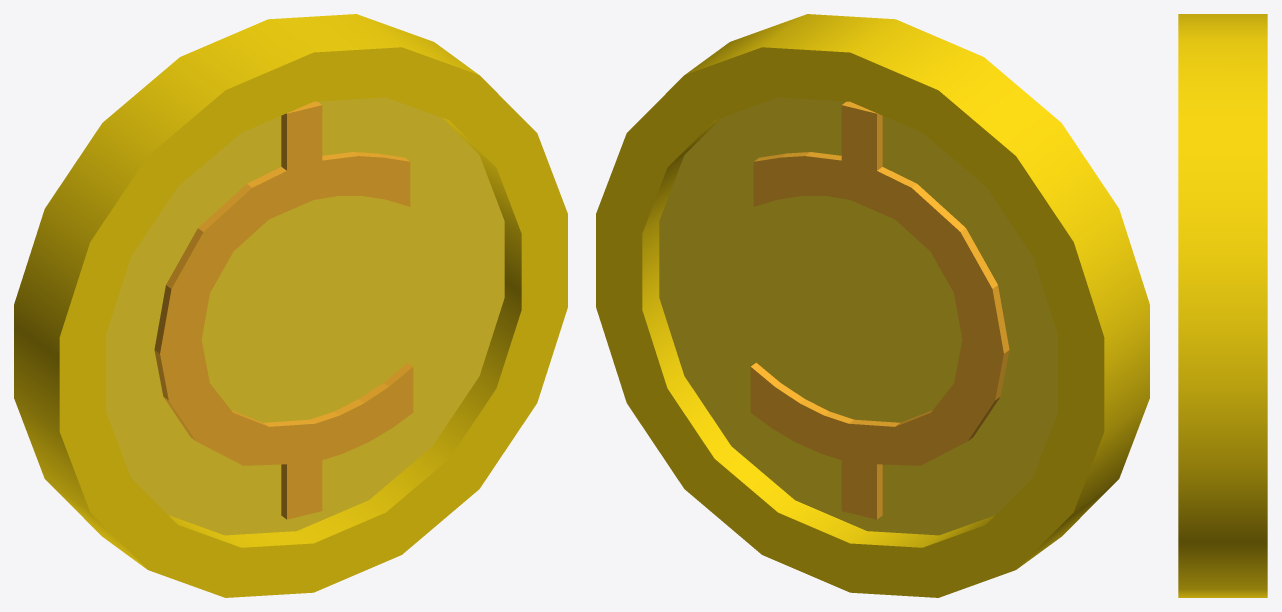
File: Coin.fbx
3 views of the same model, side by side, from view 1: azimuth 30°, elevation 25°; view 2: azimuth 150°, elevation 25°; view 3: azimuth 270°, elevation 25° (orthographic).
Visible parts, largest first — view 1: Coin; view 2: Coin; view 3: Coin.
Part boxes in pixels (x1,y1,x2,y2): Coin: (14, 14, 567, 597); Coin: (596, 14, 1149, 597); Coin: (1178, 14, 1267, 597).
Size of the model in its own units: 104 by 106 by 16.18.
